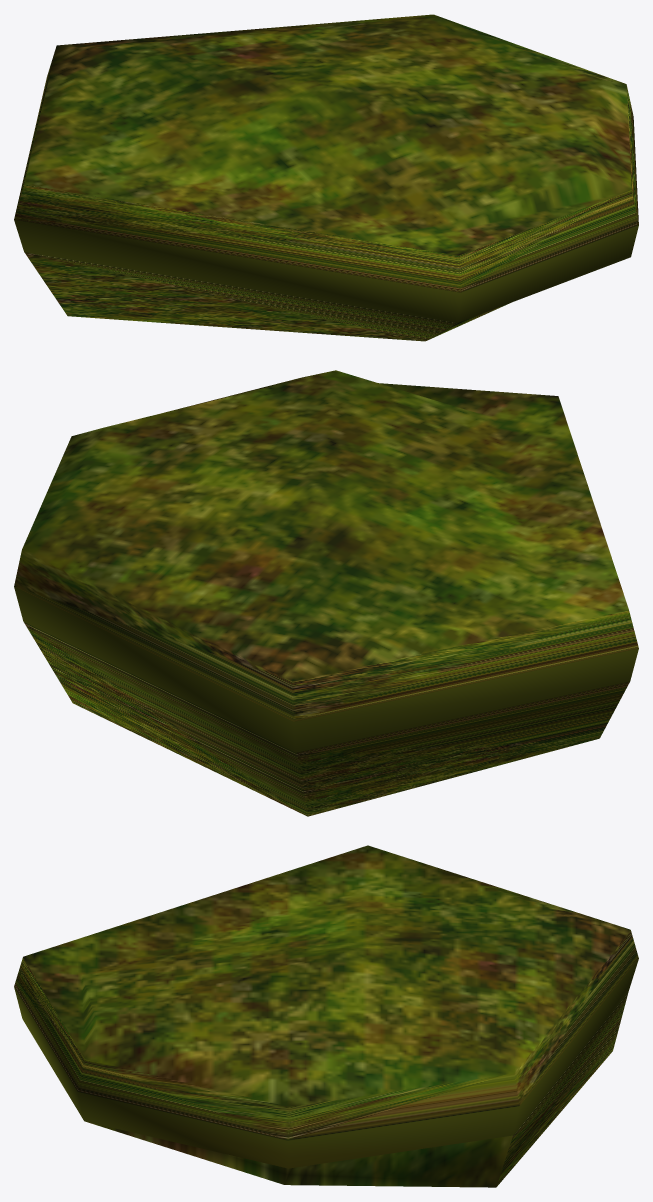
Rendered from TROLLHOLE02_RM_FALL_ROCK08.fbx.
3 renders of one model, top to bottom at view 1: azimuth 30°, elevation 25°; view 2: azimuth 150°, elevation 25°; view 3: azimuth 270°, elevation 25°, orthographic. The views are drawn at different scales.
Visible parts, largest first — view 1: TROLLHOLE02_RM_FALL_ROCK08; view 2: TROLLHOLE02_RM_FALL_ROCK08; view 3: TROLLHOLE02_RM_FALL_ROCK08.
Part boxes in pixels (<box>): TROLLHOLE02_RM_FALL_ROCK08: <box>14,14,638,341</box>; TROLLHOLE02_RM_FALL_ROCK08: <box>14,370,638,816</box>; TROLLHOLE02_RM_FALL_ROCK08: <box>14,845,638,1187</box>.
Size of the model in its own units: 27049 by 9597 by 27133.
Materials: 1 (1 with a texture image).
